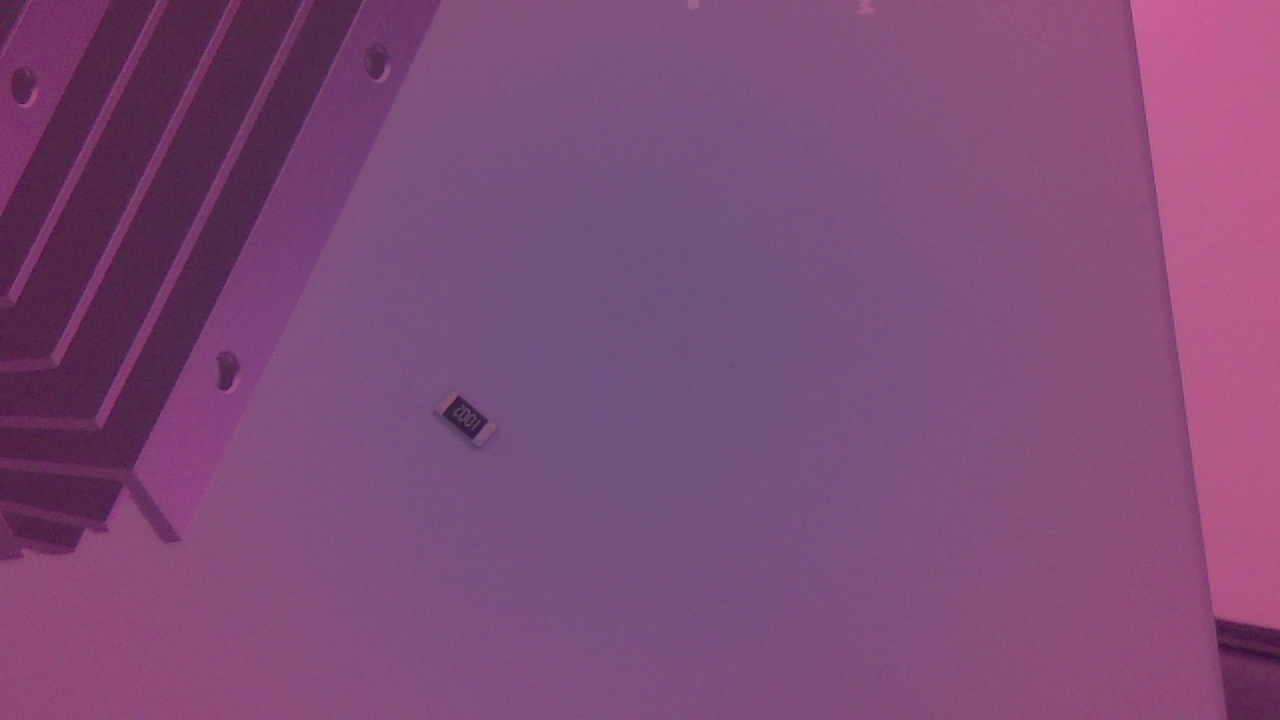Resistor: (435, 389, 508, 463)
